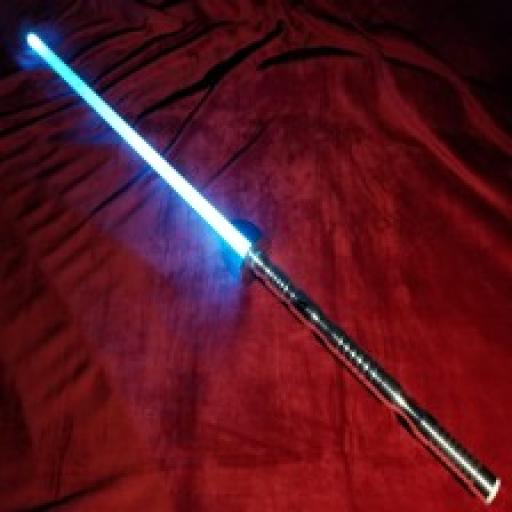lightsaber: (26, 28, 498, 500)
